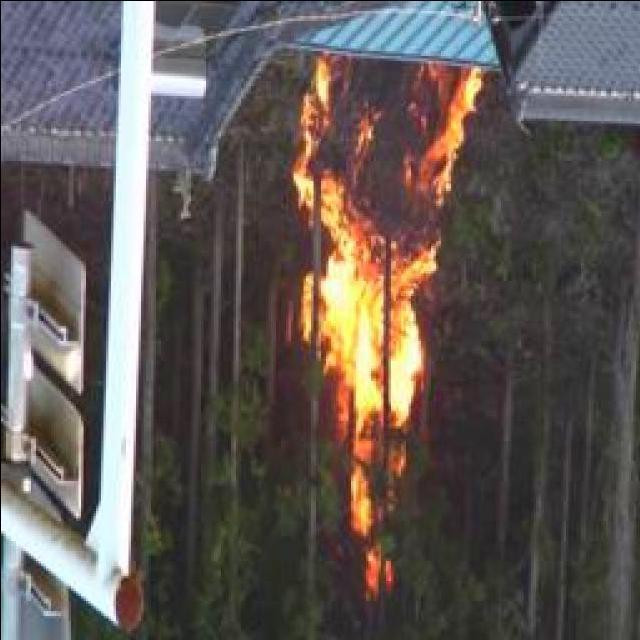Fire: (292, 58, 478, 530)
